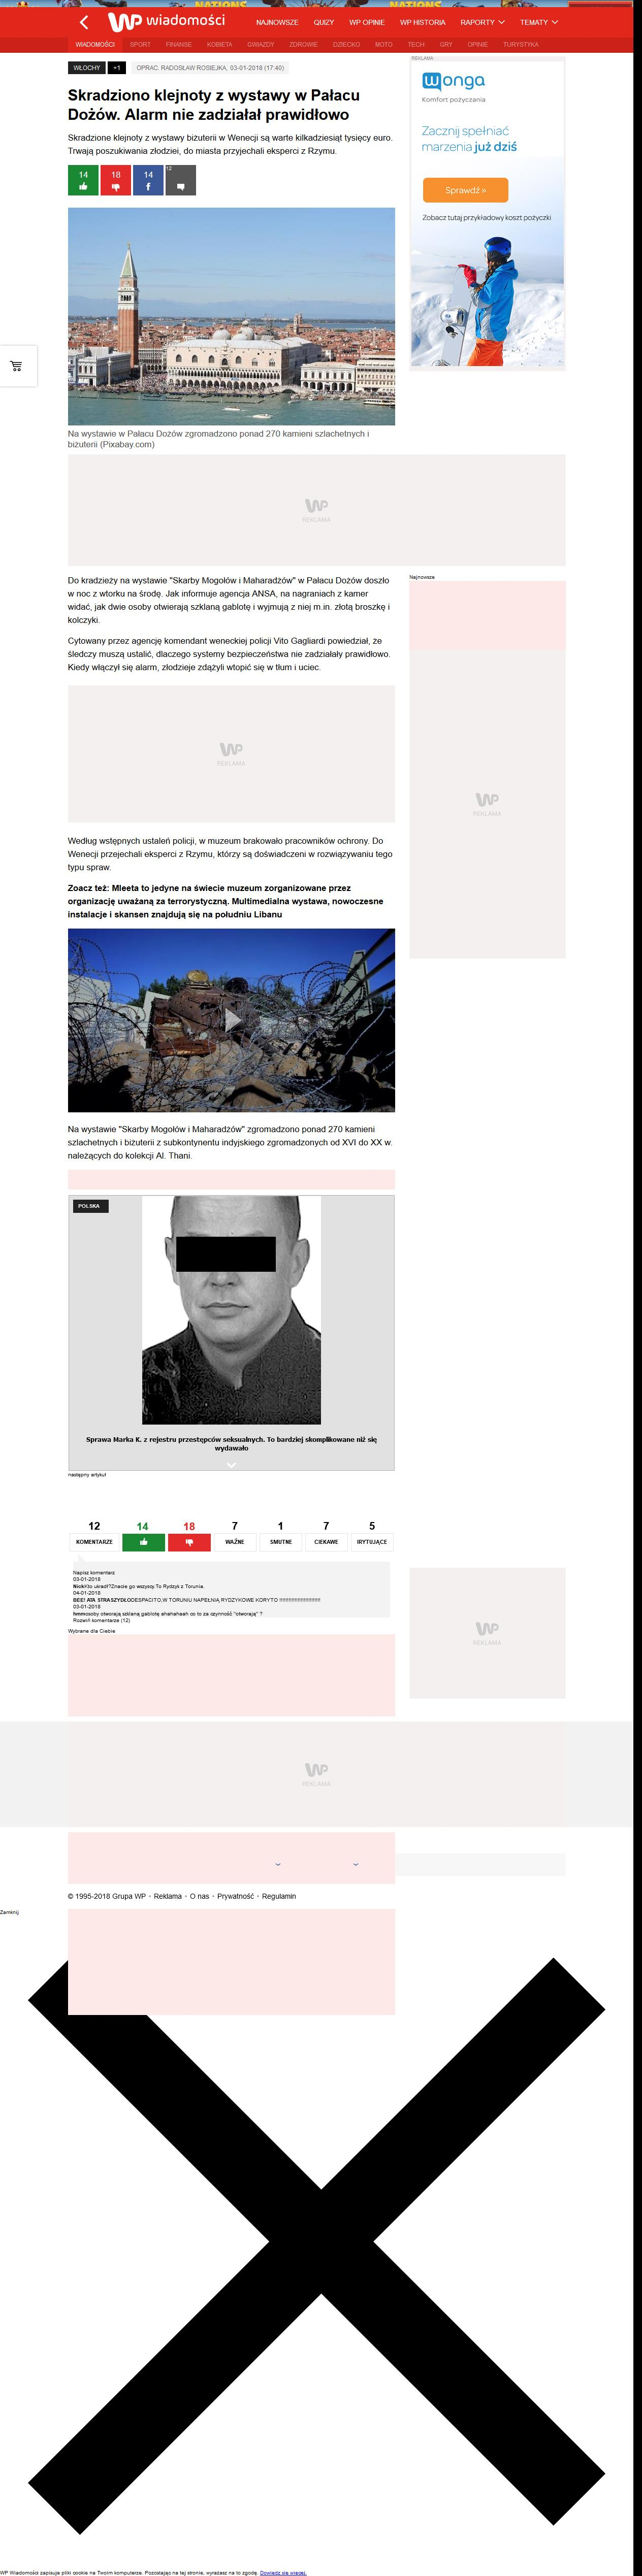title: (67, 89, 361, 122)
